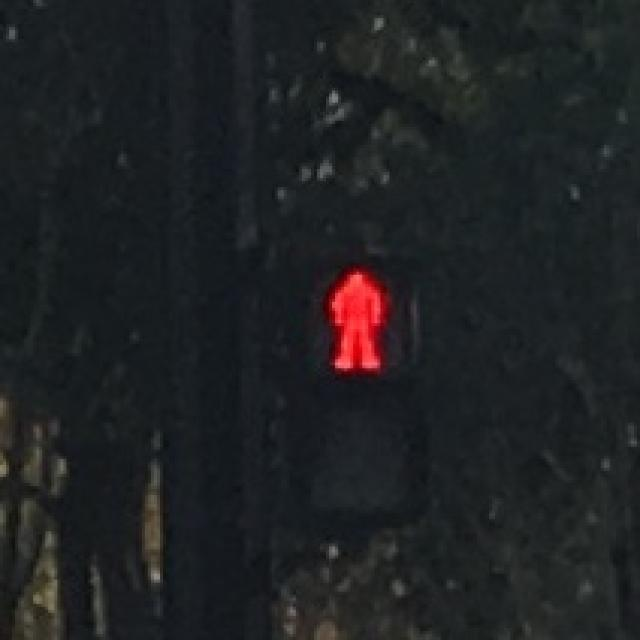red-crossing: (302, 255, 411, 376)
